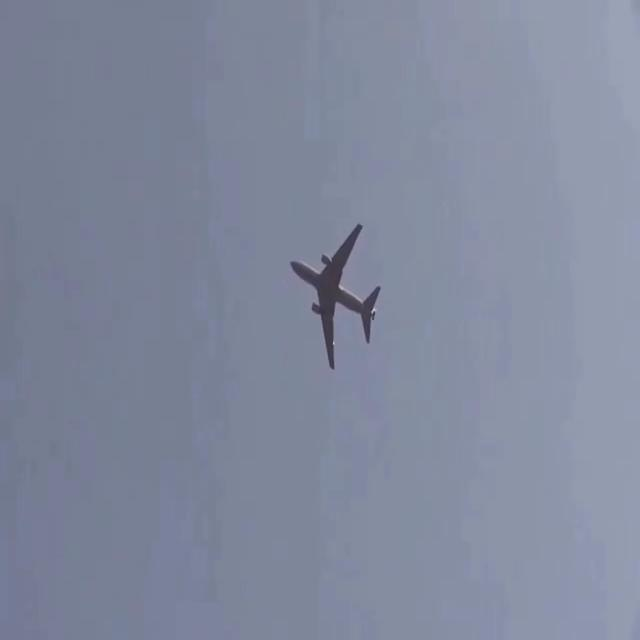AirPlane: (275, 203, 403, 376)
